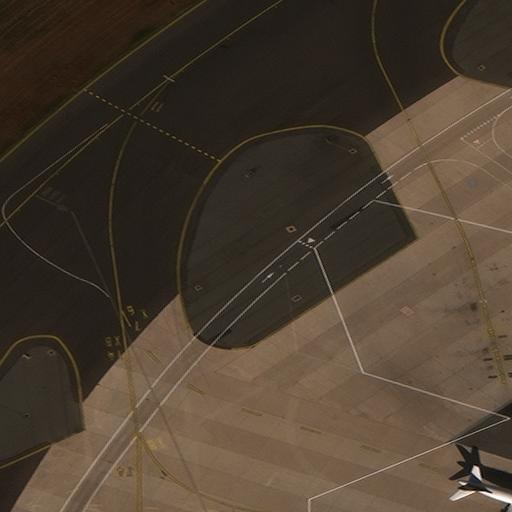Medium Civil Transport: (458, 466, 512, 511)
